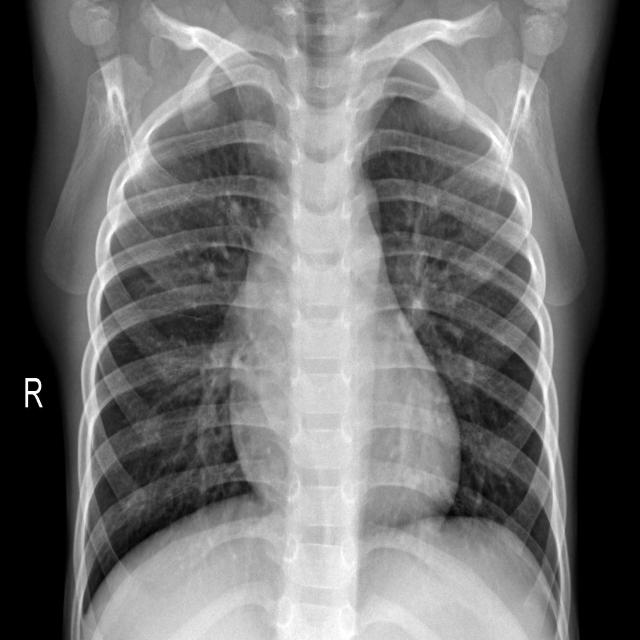no-pneumonia: (73, 48, 290, 638), (365, 96, 562, 600)
